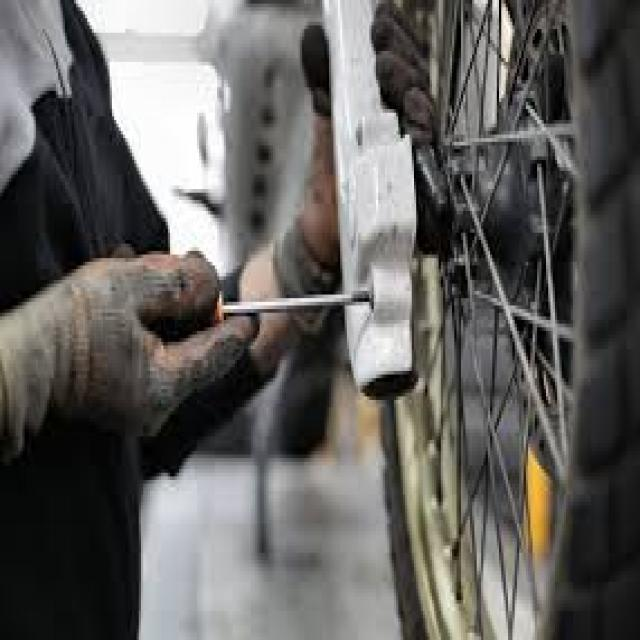screwdriver: (140, 258, 382, 338)
